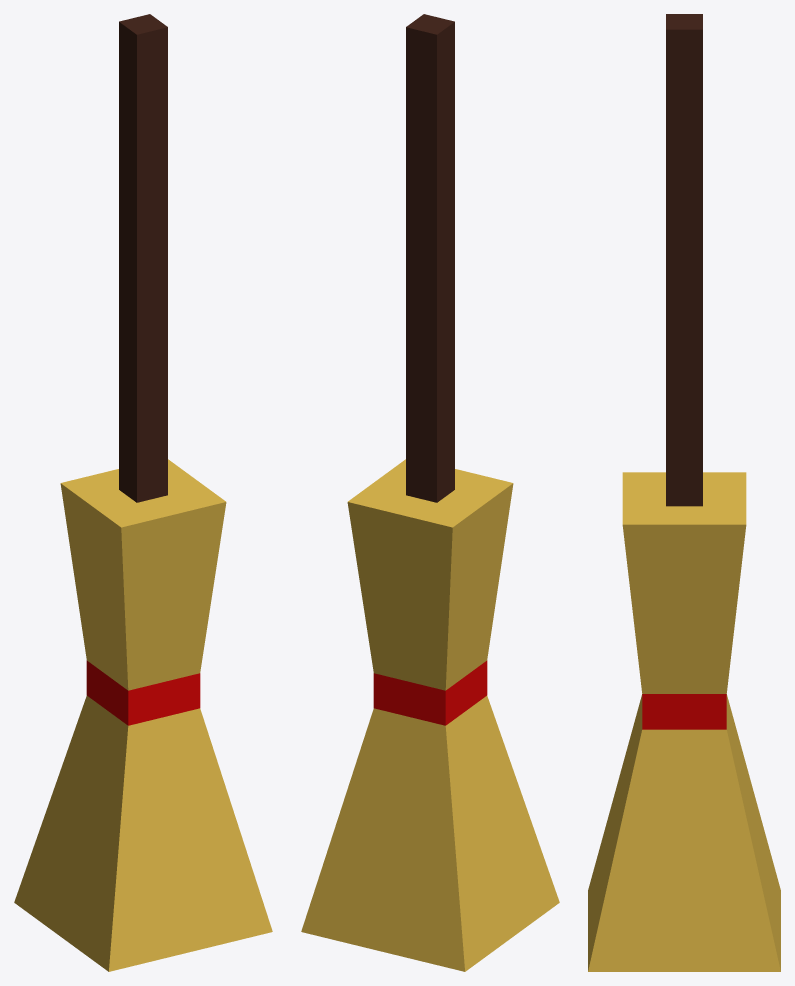
File: 092 Broom.fbx
3 renders of one model, left to right at view 1: azimuth 30°, elevation 25°; view 2: azimuth 150°, elevation 25°; view 3: azimuth 270°, elevation 25°, orthographic.
Visible parts, largest first — view 1: Lowpoly_Christmas_Pack_092:pCube1; view 2: Lowpoly_Christmas_Pack_092:pCube1; view 3: Lowpoly_Christmas_Pack_092:pCube1.
Boxes of the visible parts, x1=… form: Lowpoly_Christmas_Pack_092:pCube1: x1=14, y1=14, x2=272, y2=971; Lowpoly_Christmas_Pack_092:pCube1: x1=301, y1=14, x2=559, y2=971; Lowpoly_Christmas_Pack_092:pCube1: x1=588, y1=14, x2=780, y2=971.
Size of the model in its own units: 0.5676 by 2.95 by 0.5676.
